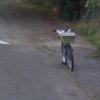Bicycle: (46, 22, 83, 76)
